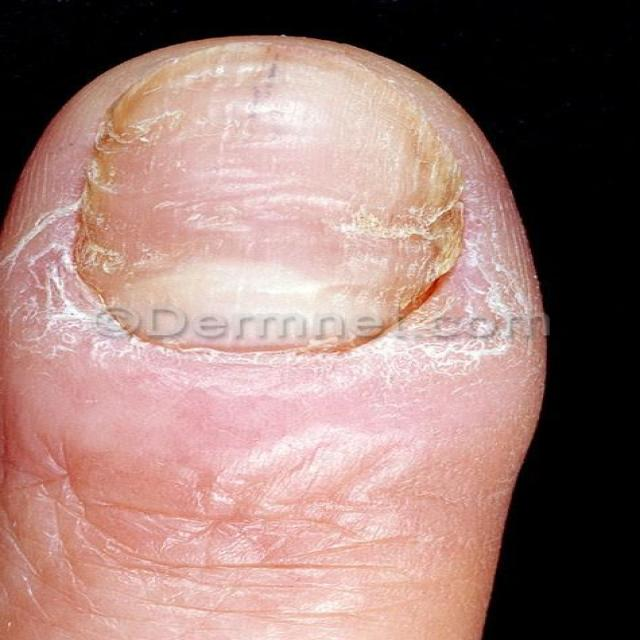Nail: (73, 41, 480, 359)
